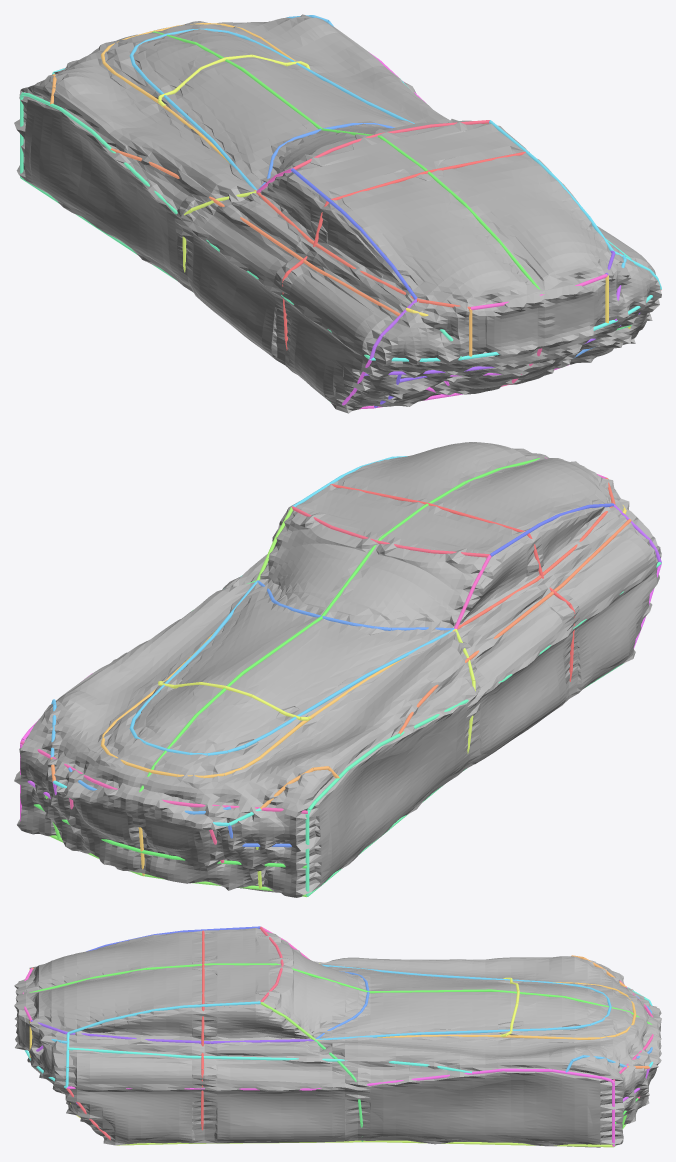
The model's file is t2f_car_93.gltf.
3 views of the same model, one above another, from view 1: azimuth 30°, elevation 25°; view 2: azimuth 150°, elevation 25°; view 3: azimuth 270°, elevation 25° (orthographic). The views are drawn at different scales.
Bounding box in the file's own units: 0.393 × 0.2322 × 0.9253.
